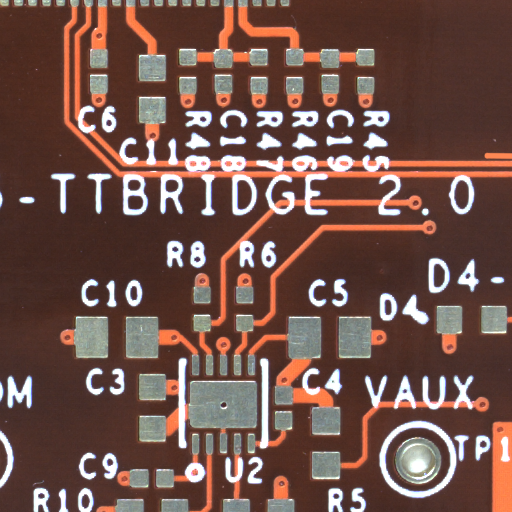Spurious_copper: (498, 156, 512, 164)
